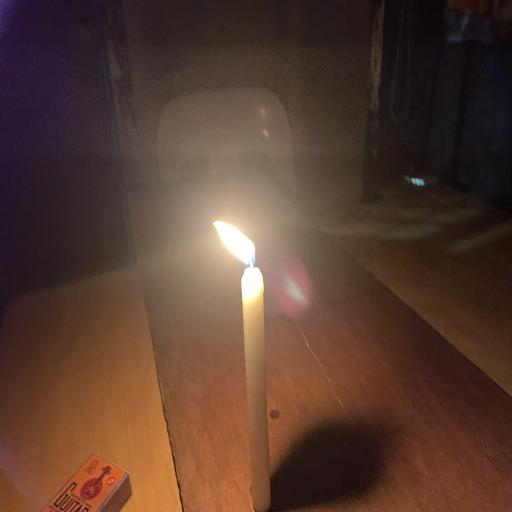fire: (199, 208, 290, 297)
